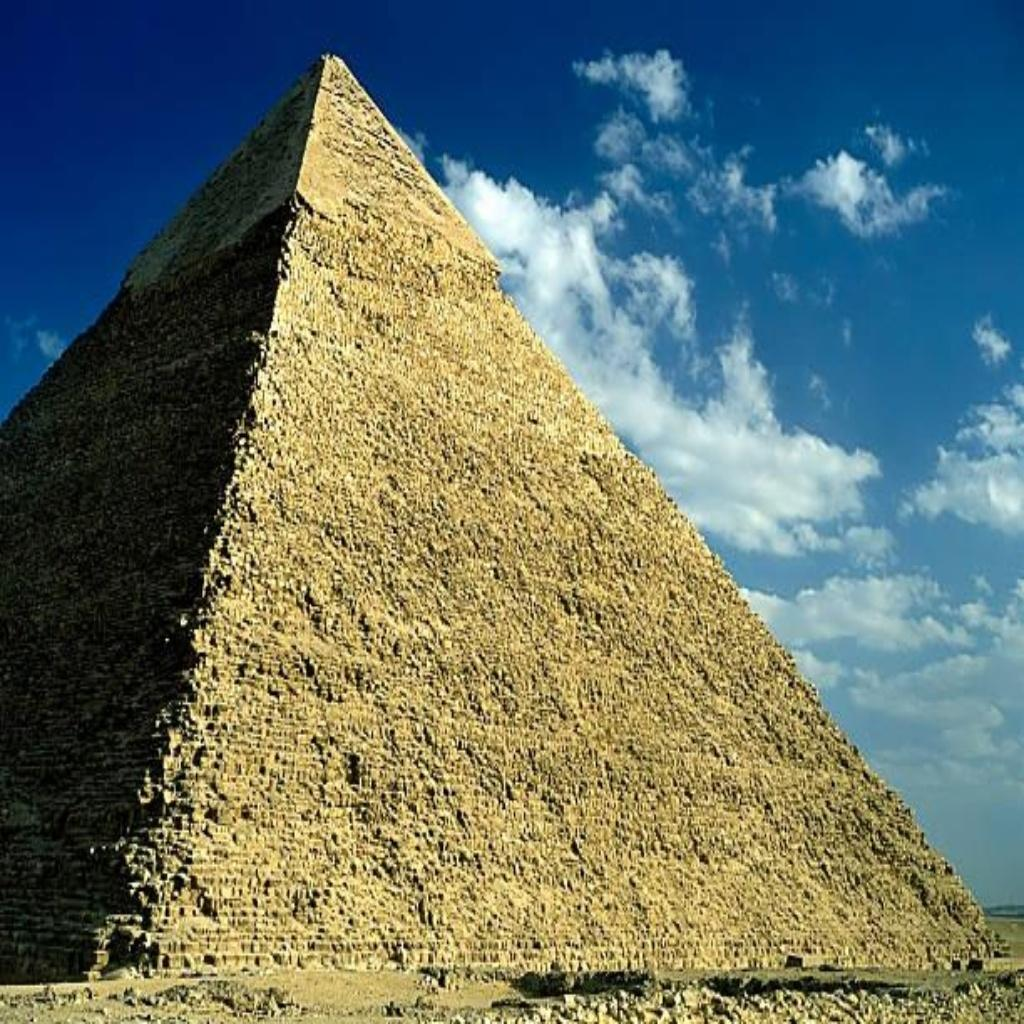Great Pyramids of Giza: (2, 46, 1004, 986)
